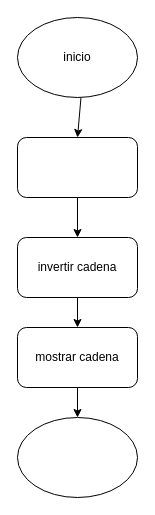
Some shapes in this 155 by 515 pixel diagram are drawn without their labels. The centre of each missing label's shape, as x and y in pixels:
"fin" belongs at [77,457].
"leer cadena" belongs at [77,167].
